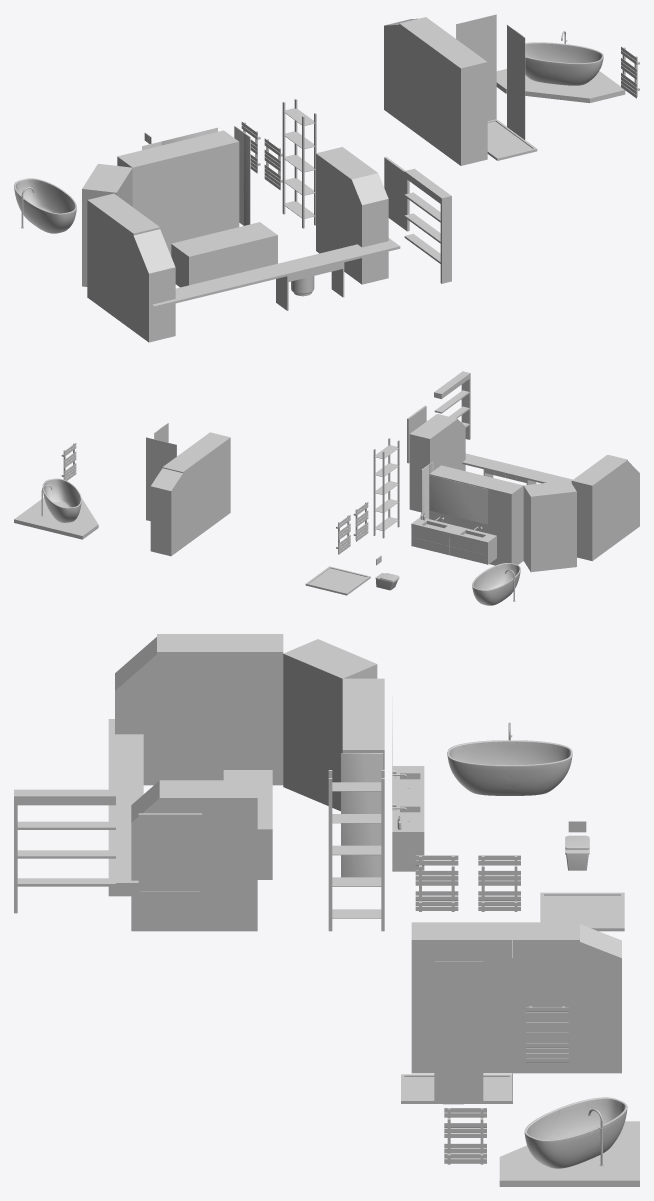
File: EB03__Storey__FirstFloor__ProposedFixtures__MeshModel__.glb
3 views of the same model, one above another, from view 1: azimuth 30°, elevation 25°; view 2: azimuth 150°, elevation 25°; view 3: azimuth 270°, elevation 25° (orthographic). The views are drawn at different scales.
Visible parts, largest first — view 1: 27__ProposedBuilding__Fixtures::Default, Barcelona_sketchup_ID22282423 (×2), 27__ProposedBuilding__Fixtures::MAT140__Mirror__ClearDefault, Barcelona_ID22282374, 27_50__TowelRadiator__WallHuing__Type-01___ID23531846; view 2: 27__ProposedBuilding__Fixtures::Default, Barcelona_sketchup_ID22282423 (×2), 27__ProposedBuilding__Fixtures::MAT140__Mirror__ClearDefault, Barcelona_ID22282374, 27_50__TowelRadiator__WallHuing__Type-01___ID23531846, 27_50__TowelRadiator__WallHuing__Type-01___ID23531845; view 3: 27__ProposedBuilding__Fixtures::Default, Barcelona_sketchup_ID22282423 (×2), 27__ProposedBuilding__Fixtures::MAT140__Mirror__ClearDefault, 27_50__TowelRadiator__WallHuing__Type-01___ID23531846, 27_50__TowelRadiator__WallHuing__Type-01___ID23531845, 27_50__TowelRadiator__WallHuing__Type-01___ID22282794.
Part boxes in pixels (x1=…): 27__ProposedBuilding__Fixtures::Default: x1=82, y1=14, x2=639, y2=342; Barcelona_sketchup_ID22282423 (×2): x1=14, y1=42, x2=603, y2=233; 27__ProposedBuilding__Fixtures::MAT140__Mirror__ClearDefault: x1=142, y1=126, x2=250, y2=225; Barcelona_ID22282374: x1=14, y1=178, x2=76, y2=233; 27_50__TowelRadiator__WallHuing__Type-01___ID23531846: x1=264, y1=138, x2=282, y2=190; 27__ProposedBuilding__Fixtures::Default: x1=14, y1=371, x2=639, y2=595; Barcelona_sketchup_ID22282423 (×2): x1=42, y1=478, x2=520, y2=605; 27__ProposedBuilding__Fixtures::MAT140__Mirror__ClearDefault: x1=421, y1=461, x2=488, y2=524; Barcelona_ID22282374: x1=42, y1=479, x2=81, y2=522; 27_50__TowelRadiator__WallHuing__Type-01___ID23531846: x1=353, y1=502, x2=368, y2=541; 27_50__TowelRadiator__WallHuing__Type-01___ID23531845: x1=336, y1=515, x2=350, y2=554; 27__ProposedBuilding__Fixtures::Default: x1=14, y1=634, x2=639, y2=1186; Barcelona_sketchup_ID22282423 (×2): x1=447, y1=740, x2=627, y2=1168; 27__ProposedBuilding__Fixtures::MAT140__Mirror__ClearDefault: x1=341, y1=695, x2=392, y2=877; 27_50__TowelRadiator__WallHuing__Type-01___ID23531846: x1=415, y1=855, x2=458, y2=911; 27_50__TowelRadiator__WallHuing__Type-01___ID23531845: x1=478, y1=855, x2=520, y2=911; 27_50__TowelRadiator__WallHuing__Type-01___ID22282794: x1=526, y1=1006, x2=568, y2=1062.
Bounding box in the file's own units: 13.9 × 2.52 × 8.93.
2 materials, 1 textured.
